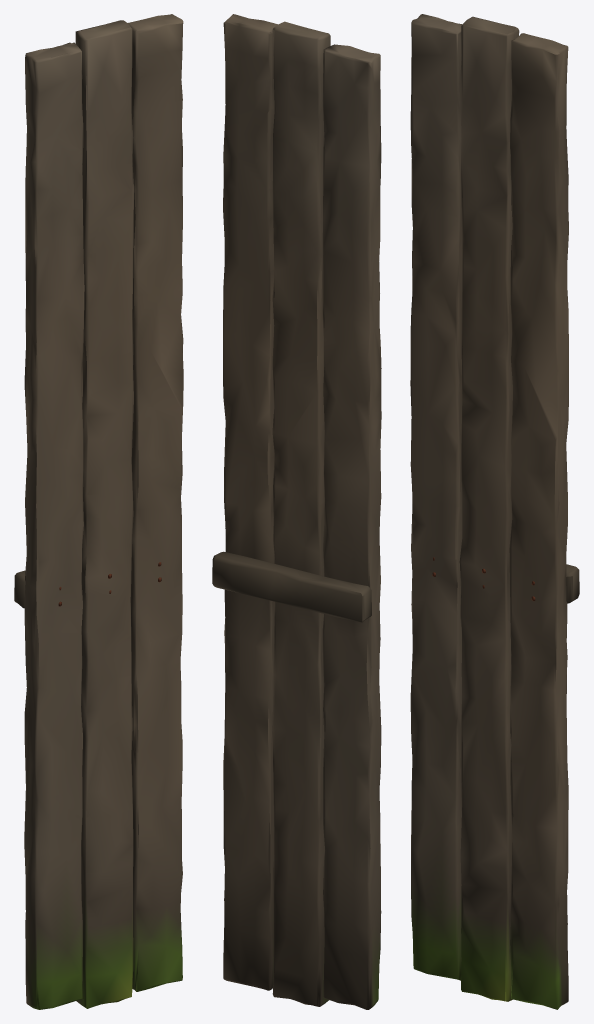
Rendered from mire_fence_board.glb.
3 views of the same model, side by side, from view 1: azimuth 30°, elevation 25°; view 2: azimuth 150°, elevation 25°; view 3: azimuth 330°, elevation 25° (orthographic).
Visible parts, largest first — view 1: mire_fence_board; view 2: mire_fence_board; view 3: mire_fence_board.
Part boxes in pixels (x1=…): mire_fence_board: x1=14, y1=14, x2=183, y2=1009; mire_fence_board: x1=212, y1=14, x2=381, y2=1009; mire_fence_board: x1=410, y1=14, x2=579, y2=1009.
Bounding box in the file's own units: 12.27 × 74.58 × 3.04.
